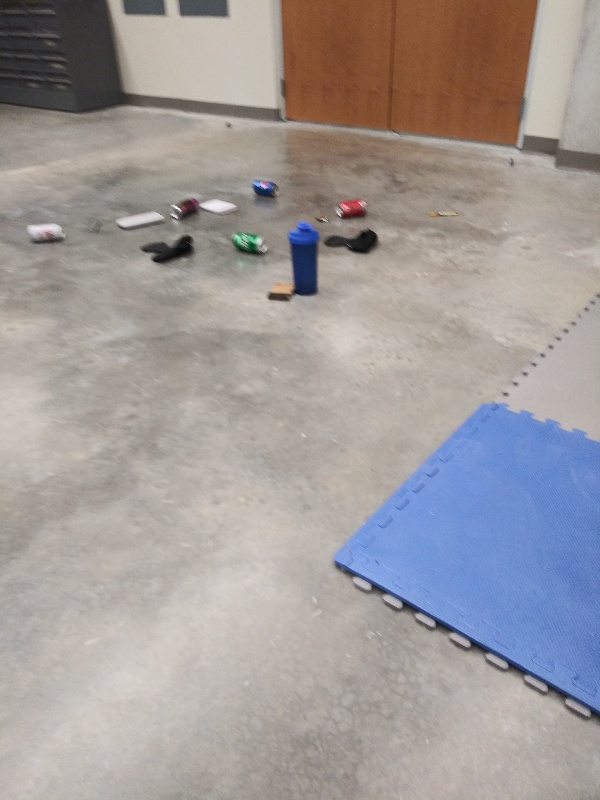can: (230, 229, 270, 258), (248, 176, 285, 200), (168, 195, 202, 219), (25, 223, 67, 242), (333, 197, 367, 219)
